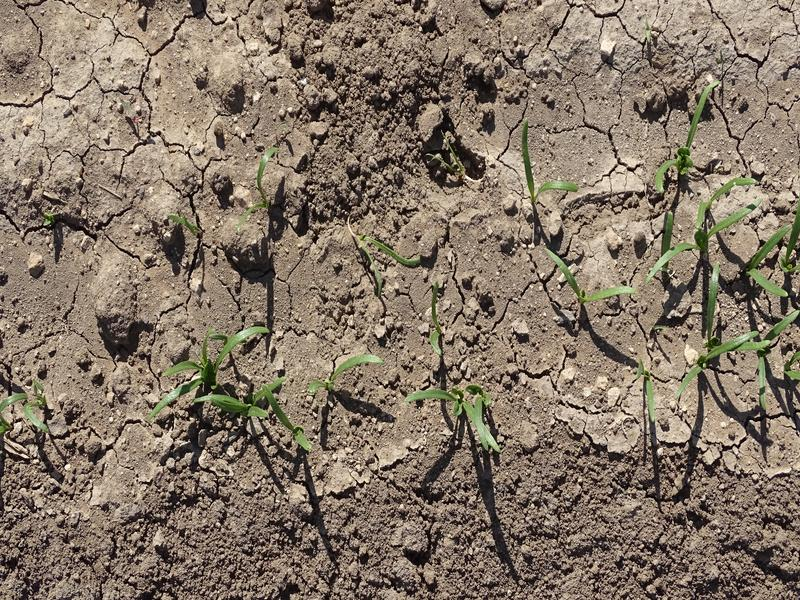Espinaca: (636, 184, 795, 388), (164, 330, 321, 449), (405, 381, 508, 456), (541, 238, 636, 306), (649, 85, 703, 182), (515, 123, 574, 203), (303, 354, 377, 400), (1, 392, 57, 445), (247, 143, 280, 223), (426, 292, 447, 358)
